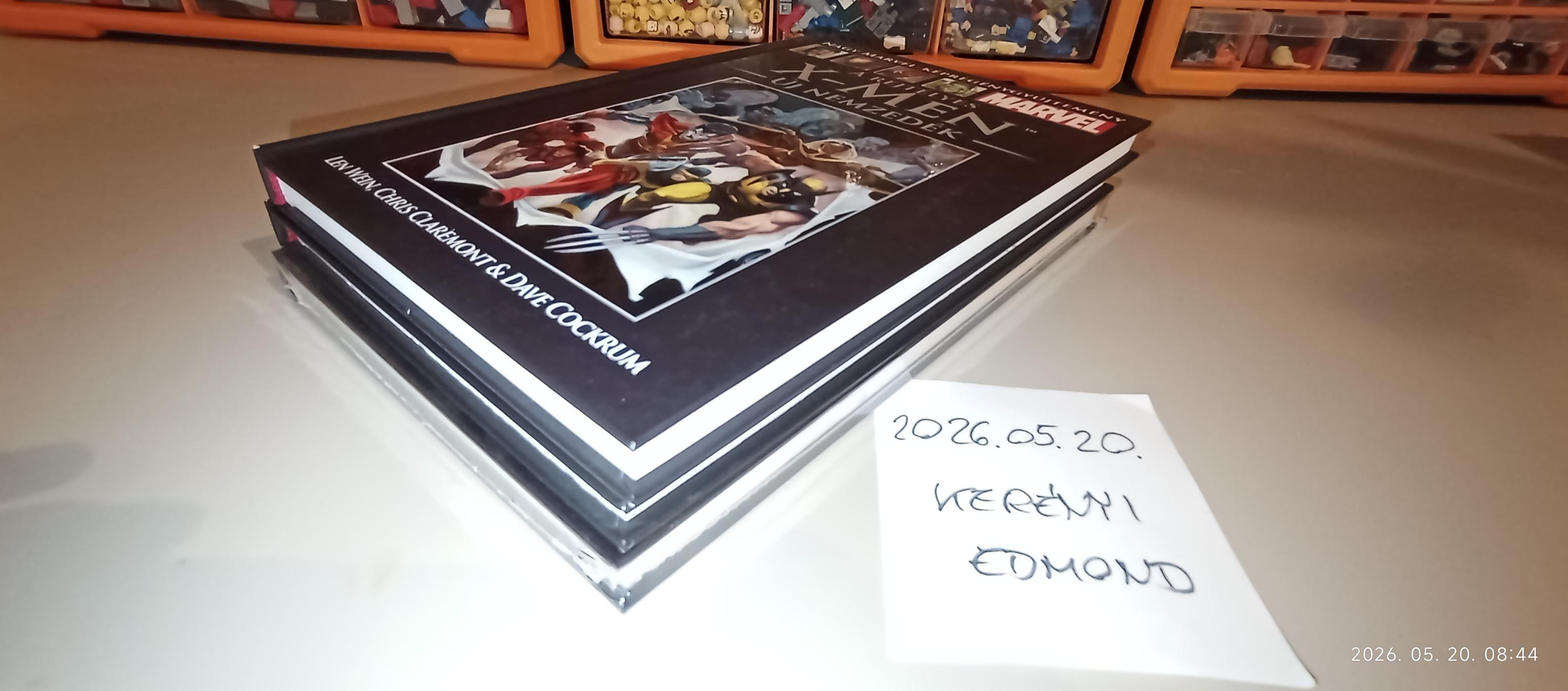comic: (256, 0, 1195, 542)
